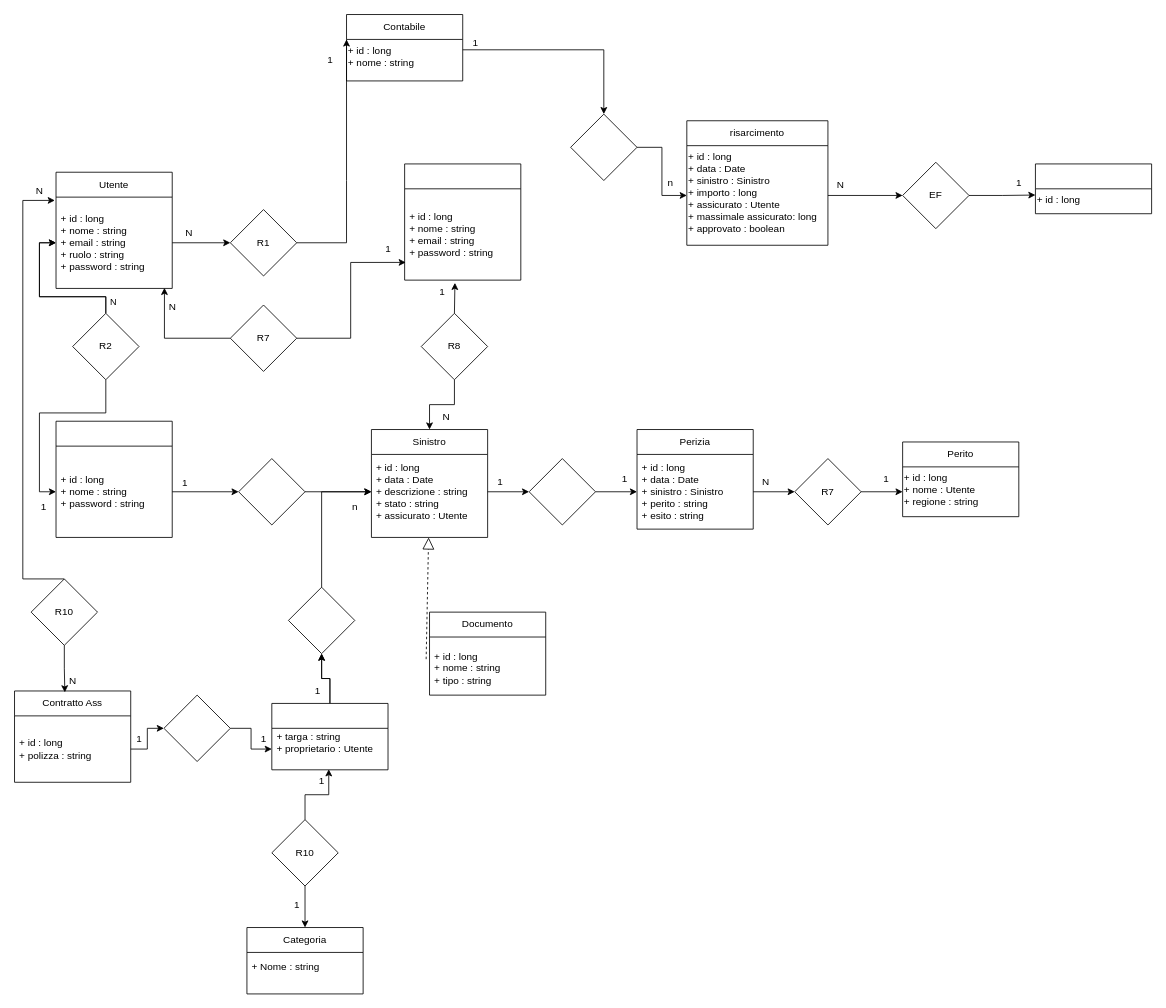
The diagram is 1166 pixels wide and 1008 high, and some of its shapes have lost their labels. Each missing label, with the box of its shape:
Agente Ass.: (404, 163, 521, 280)
CS: (238, 458, 305, 525)
Fattura Ris: (1035, 163, 1152, 214)
Impiegato: (55, 420, 172, 537)
R3: (570, 113, 637, 181)
R5: (288, 586, 355, 654)
R6: (528, 458, 596, 525)
R9: (163, 694, 230, 762)
Veicolo: (271, 703, 388, 770)
